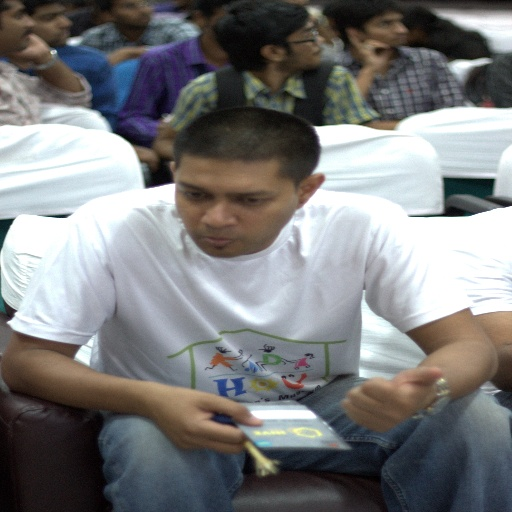hand: (138, 380, 265, 456), (343, 363, 458, 437), (344, 29, 395, 71), (0, 31, 51, 65), (129, 144, 161, 171), (119, 44, 151, 59)
